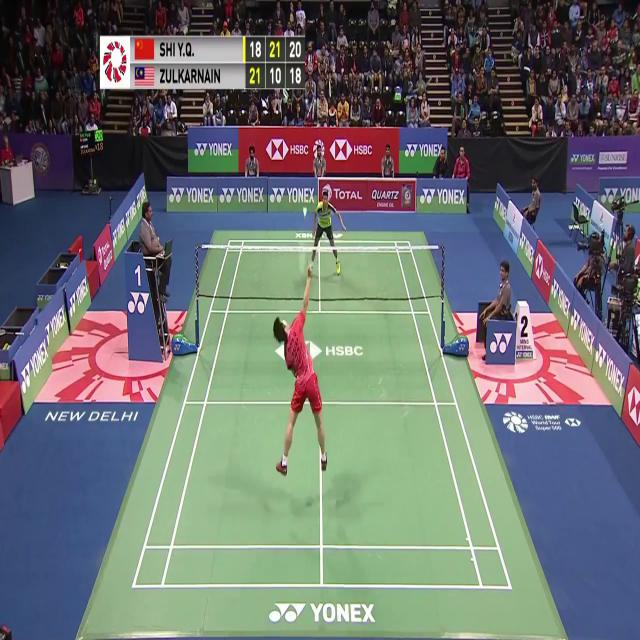Shuttlecock: (301, 208, 308, 220)
